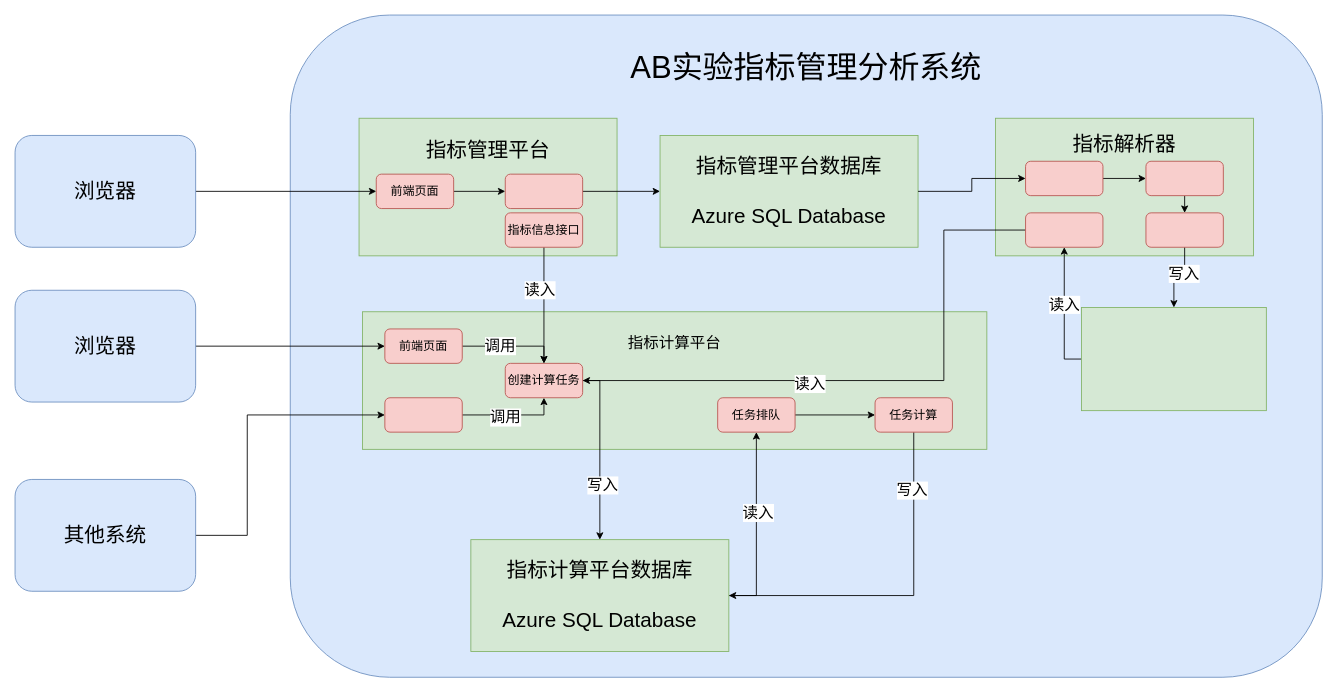
This 1337x692 diagram has some shape labels left out. Here are the shapes that lost their labels. From the top down, the centre of each, then its label:
At pixel 543 191: "指标管理后端".
At pixel 1064 178: "读入指标".
At pixel 1184 178: "指标解析".
At pixel 1064 229: "解析结果接口".
At pixel 1184 229: "缓存解析结果".
At pixel 1173 359: "缓存组件 Azure Storage Blob".
At pixel 423 414: "公共接口".
